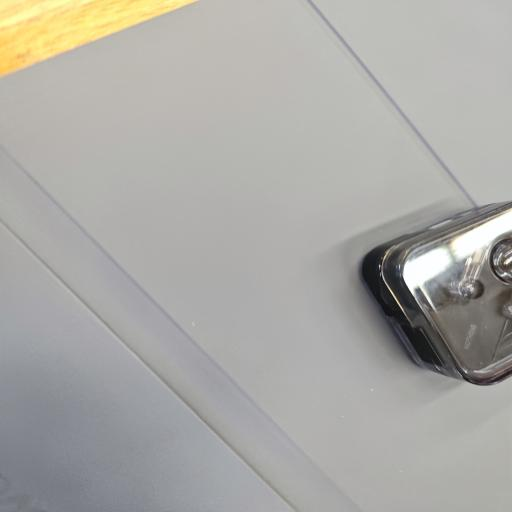CASTI: (349, 189, 512, 394)
